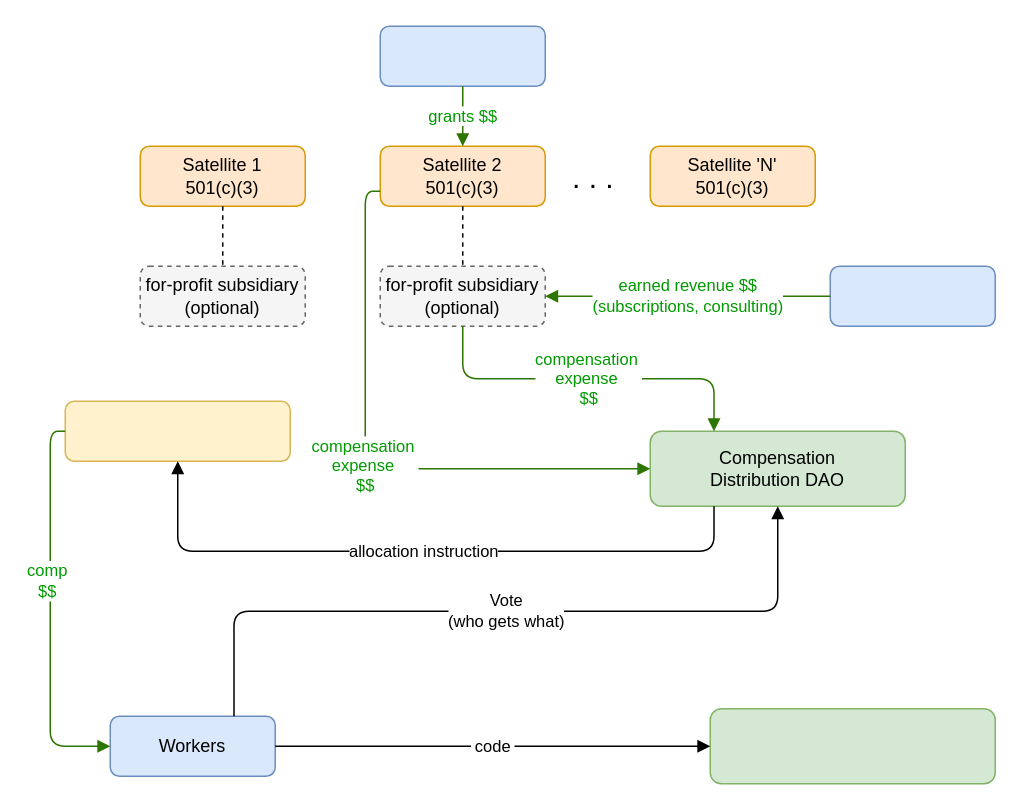
This 1022x810 diagram has some shape labels left out. Each missing label, with the centre of its shape:
Board review / override: pixel 177 430
COMMONS shared OSS stack + engineering hub: pixel 852 745
Customers: pixel 912 295
Donors: pixel 462 55
